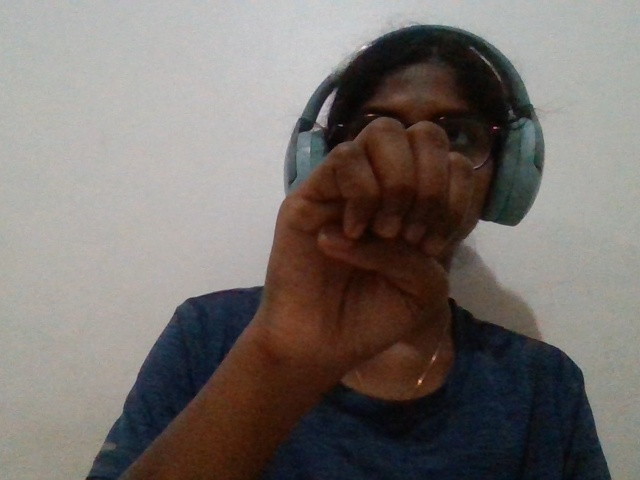E: (232, 115, 503, 361)
